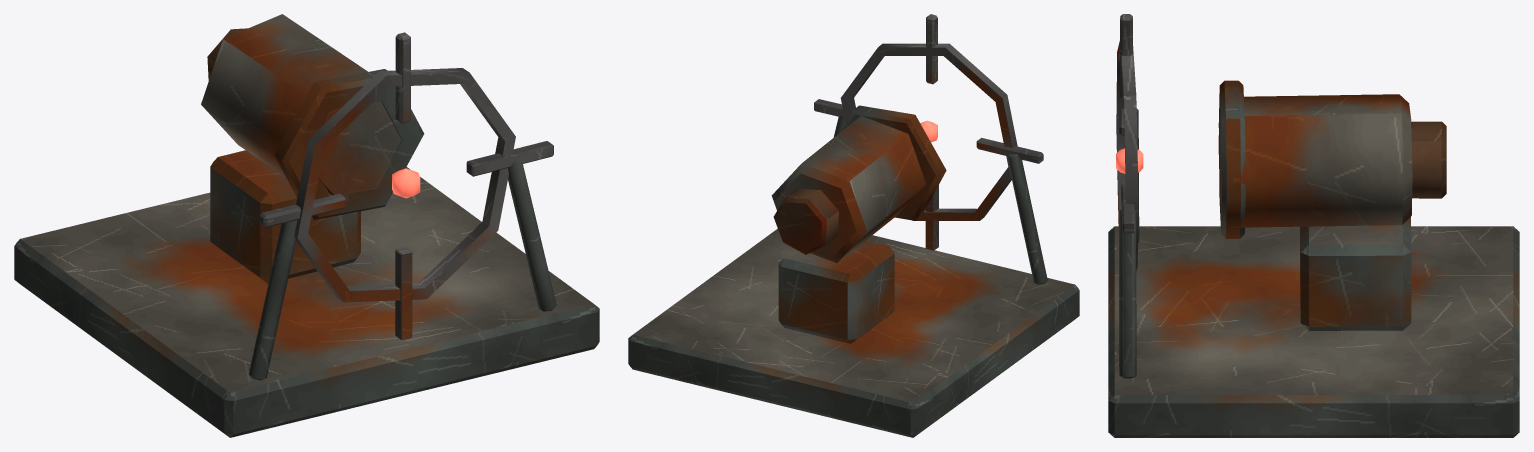
The model's file is R4X_WeakPointScanner_LOD1.glb.
3 views of the same model, side by side, from view 1: azimuth 30°, elevation 25°; view 2: azimuth 150°, elevation 25°; view 3: azimuth 270°, elevation 25° (orthographic). The views are drawn at different scales.
Visible parts, largest first — view 1: R4X_WeakPointScanner_LOD1; view 2: R4X_WeakPointScanner_LOD1; view 3: R4X_WeakPointScanner_LOD1.
Part boxes in pixels (x1=…): R4X_WeakPointScanner_LOD1: x1=14, y1=14, x2=599, y2=437; R4X_WeakPointScanner_LOD1: x1=628, y1=14, x2=1079, y2=437; R4X_WeakPointScanner_LOD1: x1=1108, y1=14, x2=1519, y2=437.
Bounding box in the file's own units: 0.52 × 0.47 × 0.52.
Materials: 5 (4 with a texture image).
